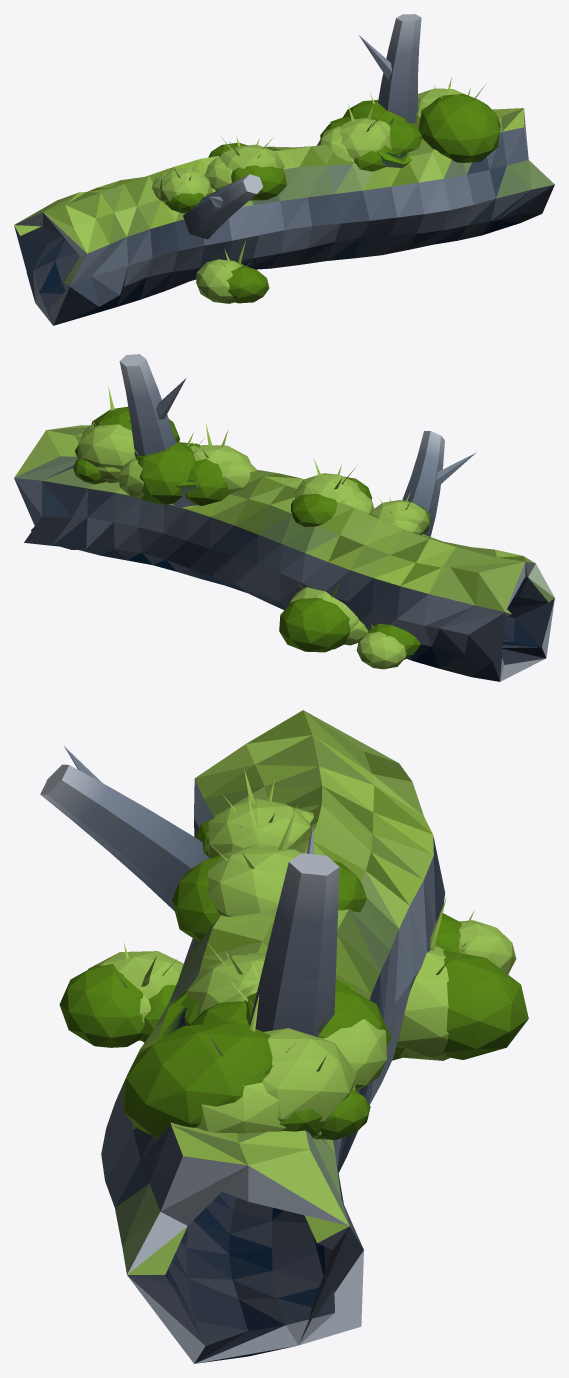
File: pohon_tumbang_hollow_driftwood_654299.glb
3 views of the same model, one above another, from view 1: azimuth 30°, elevation 25°; view 2: azimuth 150°, elevation 25°; view 3: azimuth 270°, elevation 25° (orthographic). The views are drawn at different scales.
Parts seen in each view (by area): view 1: Batang_Pohon_Berlubang; view 2: Batang_Pohon_Berlubang; view 3: Batang_Pohon_Berlubang.
Boxes of the visible parts, <box> form: Batang_Pohon_Berlubang: <box>14,14,554,325</box>; Batang_Pohon_Berlubang: <box>14,354,554,681</box>; Batang_Pohon_Berlubang: <box>40,710,528,1363</box>.
Size of the model in its own units: 7.54 by 3.19 by 3.35.
